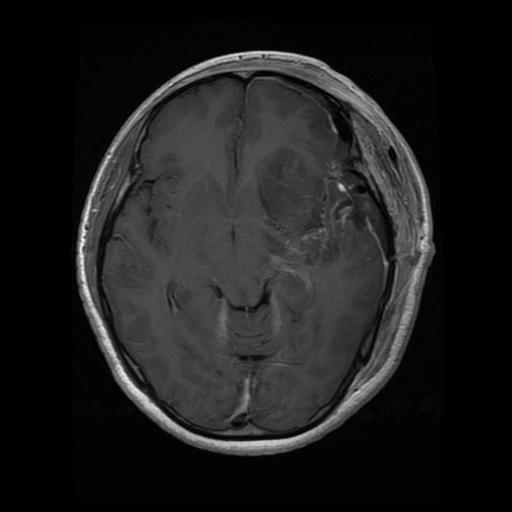Gliomia_tumour: (253, 148, 385, 263)
